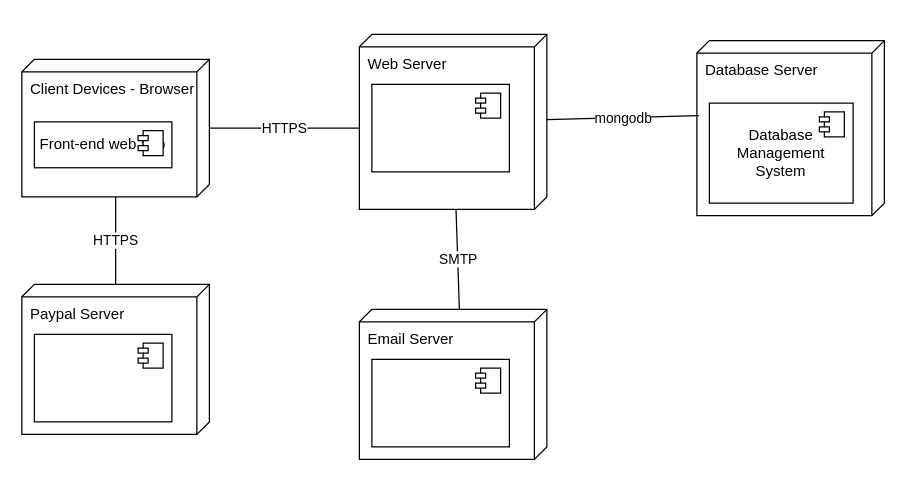
The diagram is 906 pixels wide and 481 high, and some of its shapes have lost their labels. The shapes that lost their labels are listed below. From the top down, each one's centre as x and y in pixels, then its label:
At point 440,127: "Backend API".
At point 102,377: "Payment Services".
At point 440,402: "Email Services".
